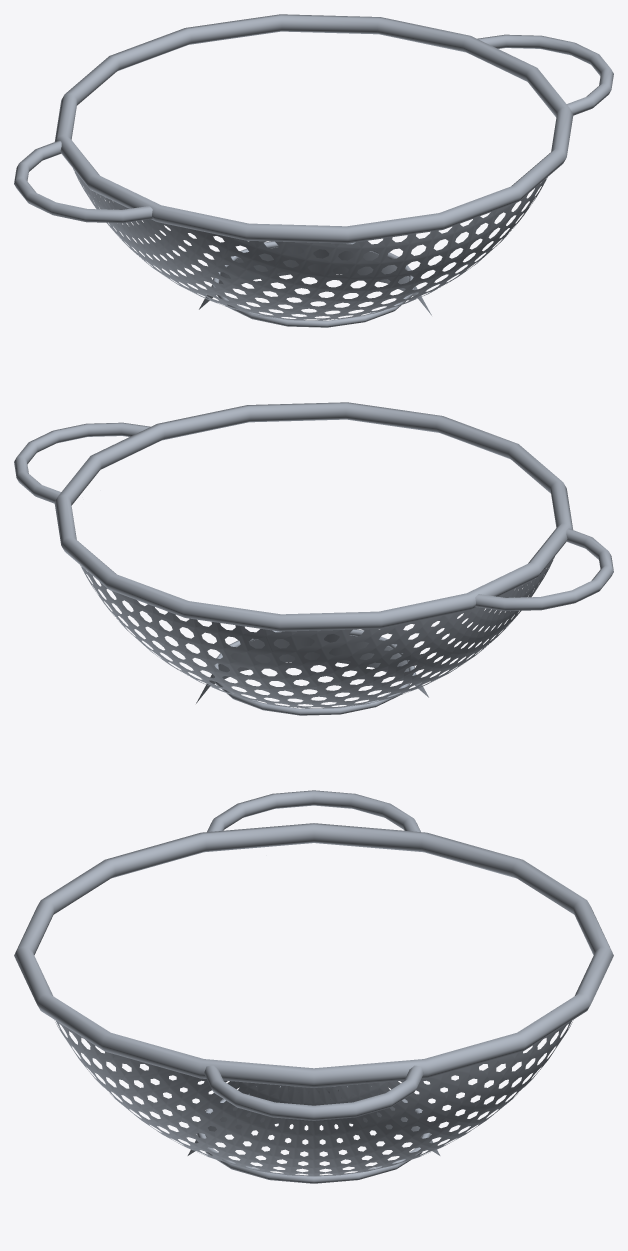
File: Strainer.glb
The picture shows the model from 3 angles, top to bottom: view 1: azimuth 30°, elevation 25°; view 2: azimuth 150°, elevation 25°; view 3: azimuth 270°, elevation 25°; orthographic projection. The views are drawn at different scales.
Parts seen in each view (by area): view 1: misc_strainer_Sphere.004; view 2: misc_strainer_Sphere.004; view 3: misc_strainer_Sphere.004.
Boxes of the visible parts, x1,y1,x2,y2 form: misc_strainer_Sphere.004: (14, 14, 613, 327); misc_strainer_Sphere.004: (14, 402, 613, 715); misc_strainer_Sphere.004: (14, 790, 613, 1183).
Bounding box in the file's own units: 7.61 × 2.55 × 5.99.
Materials: 1 (1 with a texture image).
